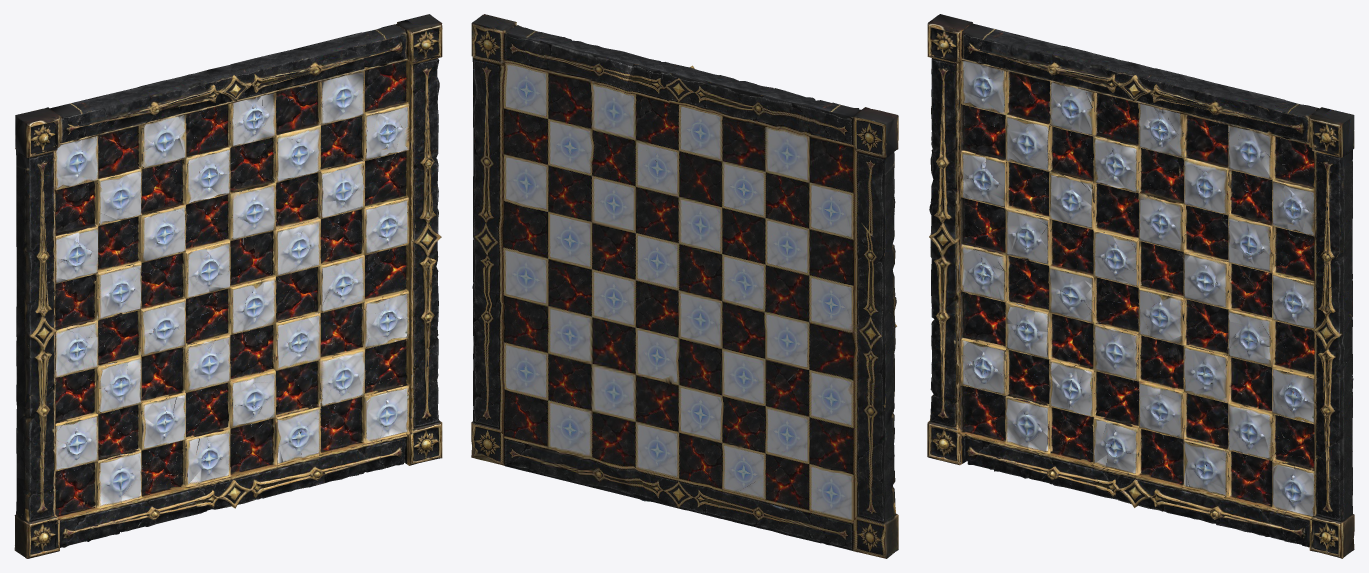
File: arena_board_8x8.glb
3 views of the same model, side by side, from view 1: azimuth 30°, elevation 25°; view 2: azimuth 150°, elevation 25°; view 3: azimuth 330°, elevation 25° (orthographic).
Visible parts, largest first — view 1: Mesh_0; view 2: Mesh_0; view 3: Mesh_0.
Part boxes in pixels (bbox=[...]): Mesh_0: bbox=[14, 14, 442, 558]; Mesh_0: bbox=[471, 14, 898, 558]; Mesh_0: bbox=[927, 14, 1354, 558].
Bounding box in the file's own units: 1.9 × 1.9 × 0.1268.
1 material, 1 textured.
